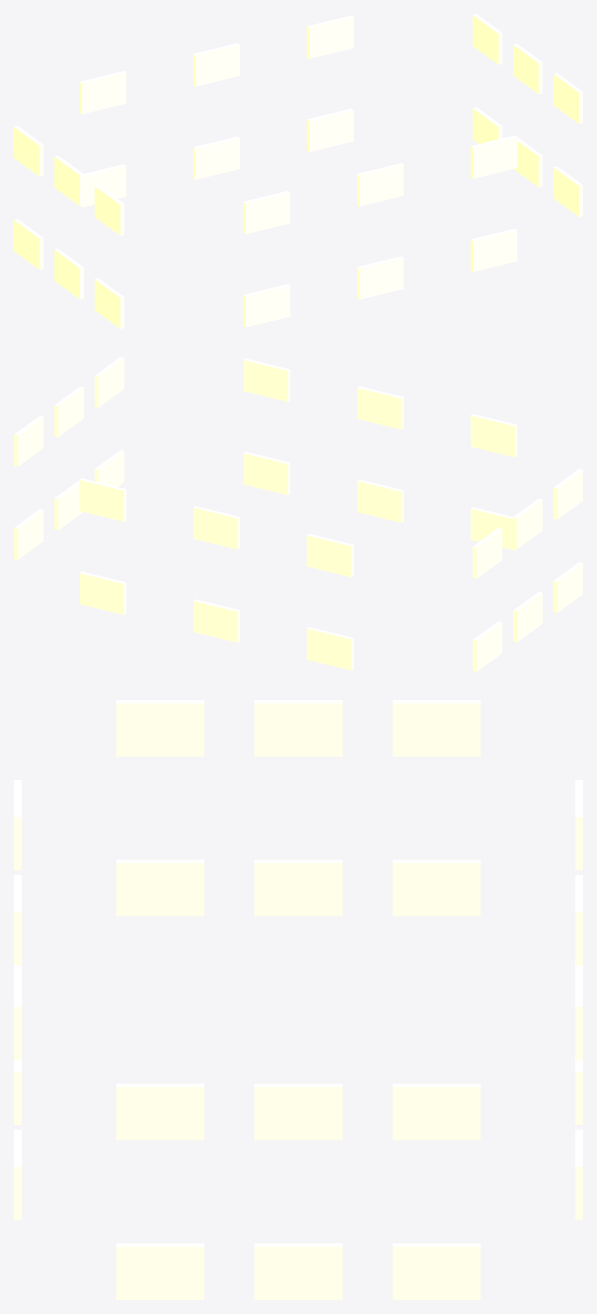
The model's file is building-e.glb.
3 views of the same model, one above another, from view 1: azimuth 30°, elevation 25°; view 2: azimuth 150°, elevation 25°; view 3: azimuth 270°, elevation 25° (orthographic). The views are drawn at different scales.
Parts seen in each view (by area): view 1: WindowLight_back_1_0, WindowLight_back_1_2, WindowLight_front_0_0, WindowLight_front_0_2, WindowLight_front_1_2, WindowLight_back_0_2, WindowLight_front_1_0, WindowLight_back_0_1, WindowLight_back_1_1, WindowLight_front_0_1, WindowLight_front_1_1, WindowLight_back_0_0 (+12 smaller); view 2: WindowLight_back_0_0, WindowLight_back_0_2, WindowLight_back_1_2, WindowLight_front_1_0, WindowLight_front_1_2, WindowLight_back_1_0, WindowLight_front_0_2, WindowLight_back_0_1, WindowLight_back_1_1, WindowLight_front_0_1, WindowLight_front_1_1, WindowLight_front_0_0 (+12 smaller); view 3: WindowLight_left_0_1, WindowLight_right_1_1, WindowLight_left_0_0, WindowLight_left_0_2, WindowLight_right_1_0, WindowLight_right_1_2, WindowLight_left_1_0, WindowLight_left_1_1, WindowLight_left_1_2, WindowLight_right_0_0, WindowLight_right_0_1, WindowLight_right_0_2.
Boxes of the visible parts, x1,y1,x2,y2 form: WindowLight_back_1_0: (79,71,126,114); WindowLight_back_1_2: (306,15,353,58); WindowLight_front_0_0: (243,284,290,327); WindowLight_front_0_2: (470,228,517,271); WindowLight_front_1_2: (470,135,517,178); WindowLight_back_0_2: (306,108,353,151); WindowLight_front_1_0: (243,191,290,234); WindowLight_back_0_1: (193,136,239,179); WindowLight_back_1_1: (193,43,239,86); WindowLight_front_0_1: (357,256,403,299); WindowLight_front_1_1: (357,163,403,206); WindowLight_back_0_0: (80,164,126,207); WindowLight_back_0_0: (306,627,353,670); WindowLight_back_0_2: (79,571,126,614); WindowLight_back_1_2: (79,478,126,521); WindowLight_front_1_0: (470,414,517,457); WindowLight_front_1_2: (243,358,290,401); WindowLight_back_1_0: (306,534,353,577); WindowLight_front_0_2: (243,451,290,494); WindowLight_back_0_1: (193,599,239,642); WindowLight_back_1_1: (193,506,239,549); WindowLight_front_0_1: (357,479,403,522); WindowLight_front_1_1: (357,386,403,429); WindowLight_front_0_0: (470,507,516,550); WindowLight_left_0_1: (254,859,342,916); WindowLight_right_1_1: (254,1083,342,1140); WindowLight_left_0_0: (116,859,204,916); WindowLight_left_0_2: (392,859,480,916); WindowLight_right_1_0: (116,1083,204,1140); WindowLight_right_1_2: (392,1083,480,1140); WindowLight_left_1_0: (116,700,204,756); WindowLight_left_1_1: (254,700,342,756); WindowLight_left_1_2: (392,700,480,756); WindowLight_right_0_0: (116,1243,204,1299); WindowLight_right_0_1: (254,1243,342,1299); WindowLight_right_0_2: (392,1243,480,1299).
Size of the model in its own units: 1.67 by 0.4286 by 1.04.
